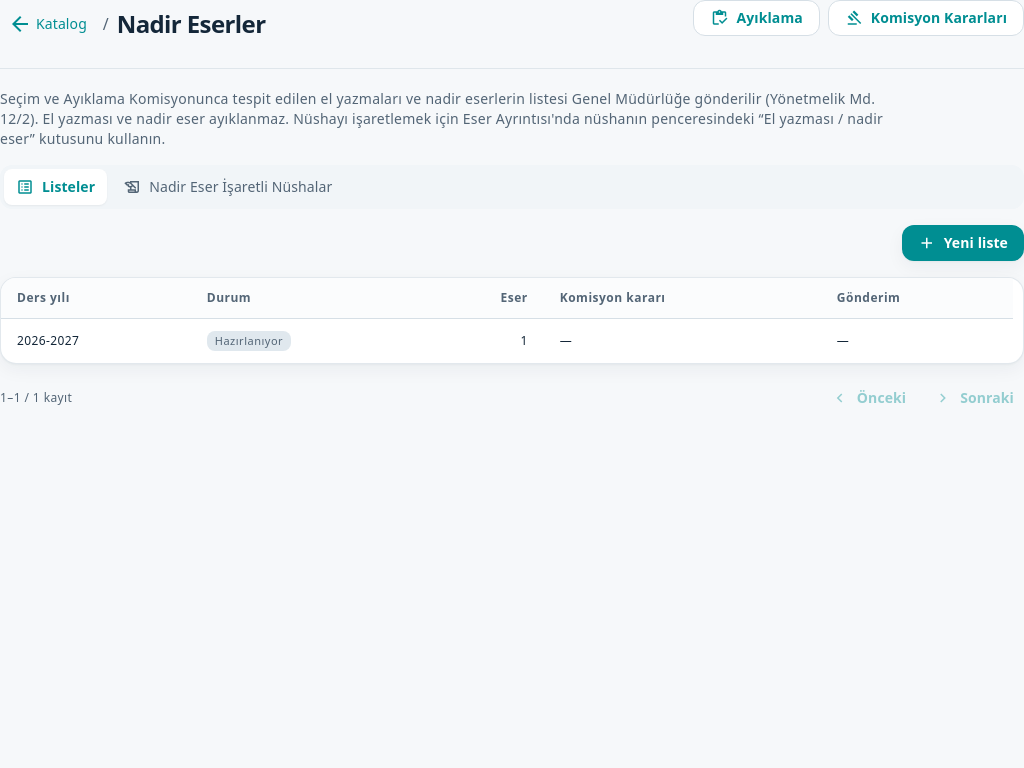
NadirEserlerPage › gönderilmiş listede düzenleme yok
Click the button with aria-label "listesini aç".
click(48, 340)  # box [1,318,1013,363]
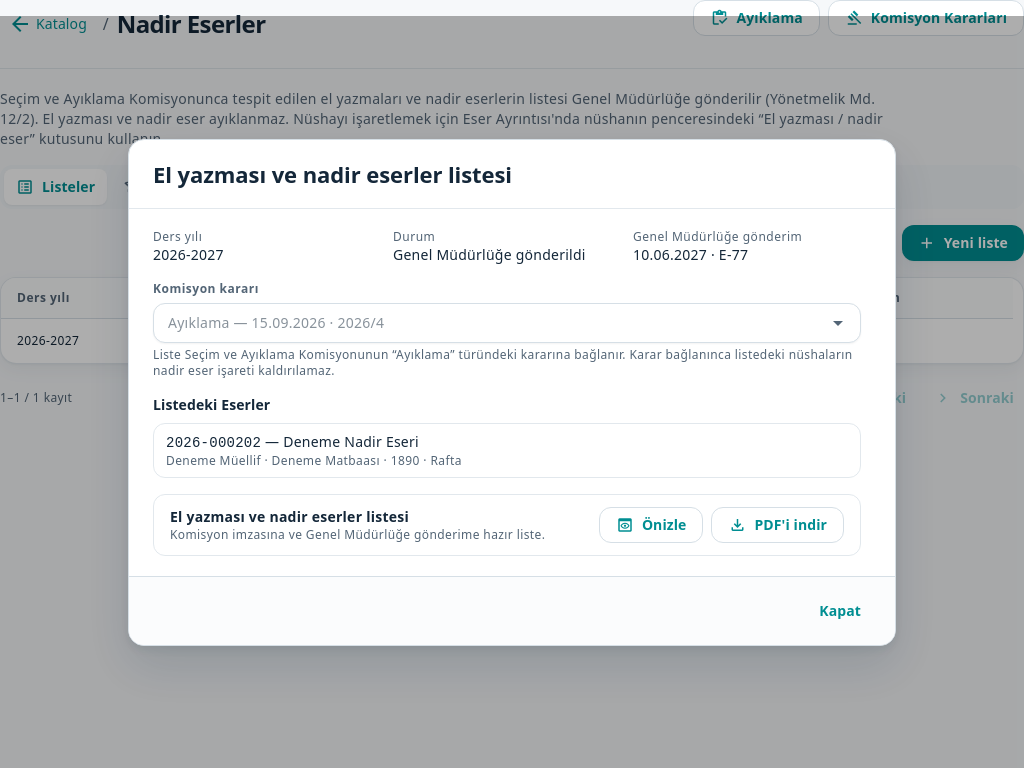
Expected: the text "10.06.2027 · E-77" is shown, [633,244,748,264]
Expected: the dropdown labelled "Komisyon kararı" is disabled, [164,312,826,332]
